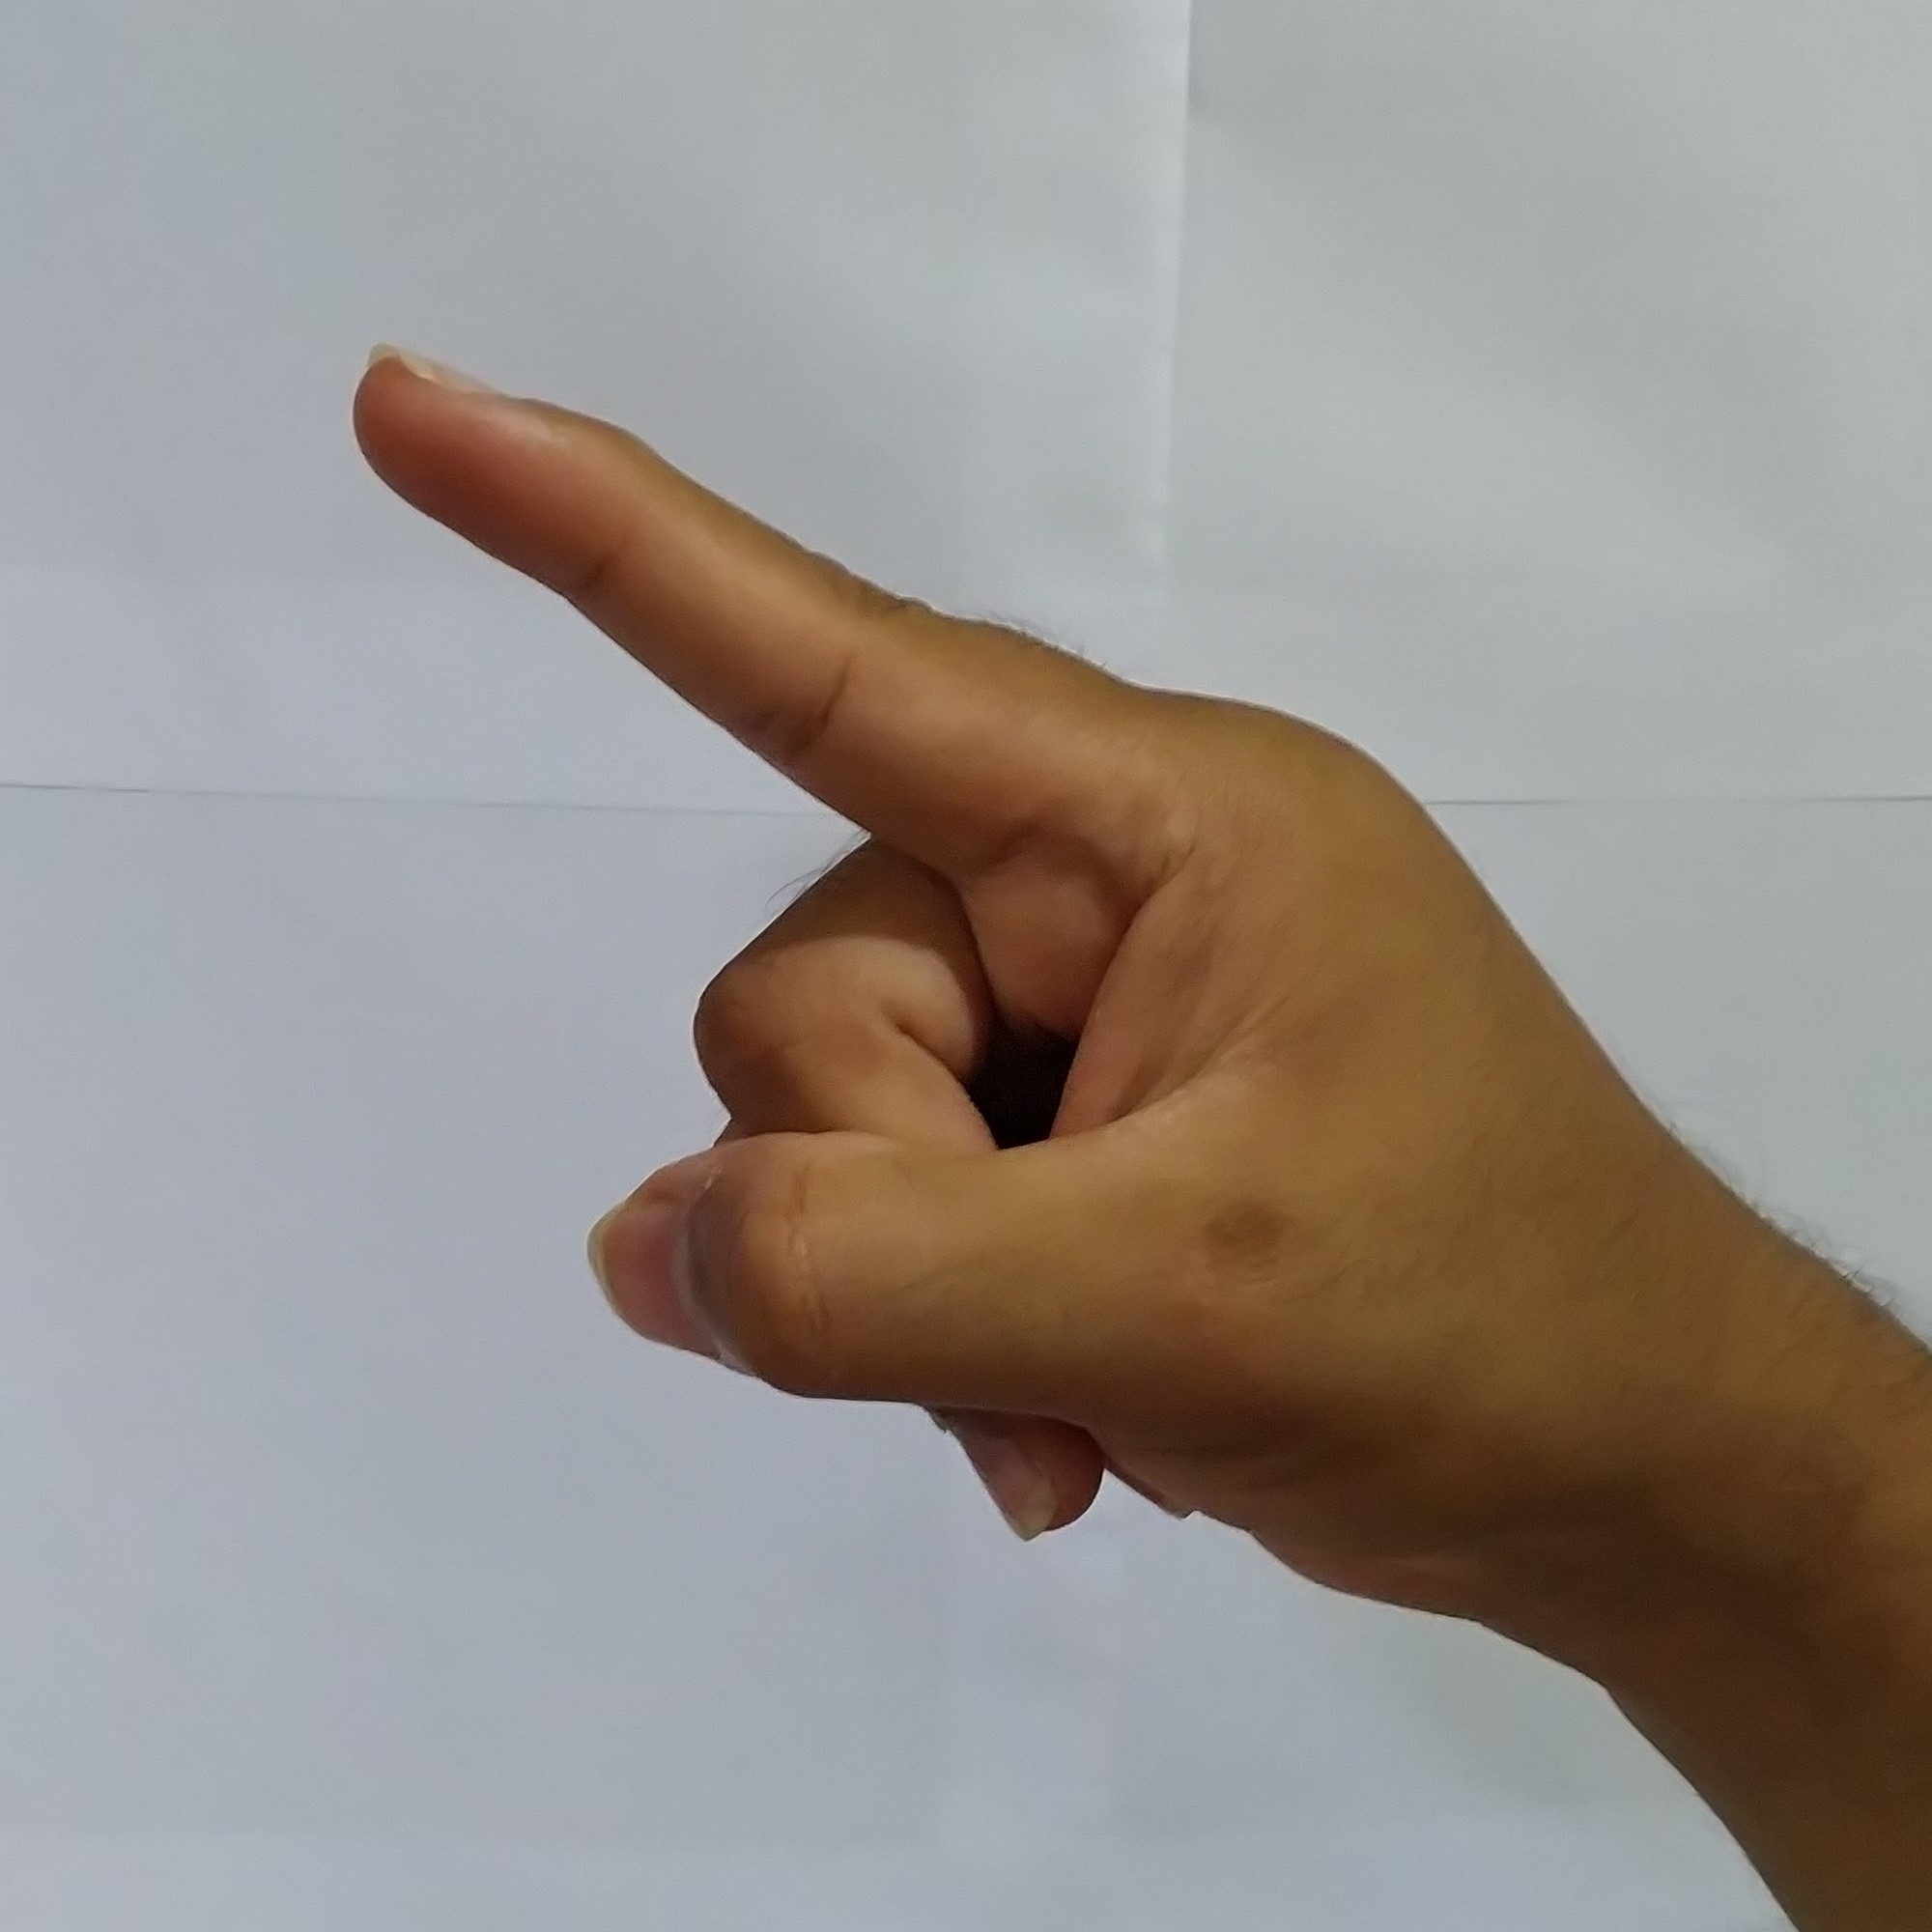Z: (299, 295, 1833, 1665)
